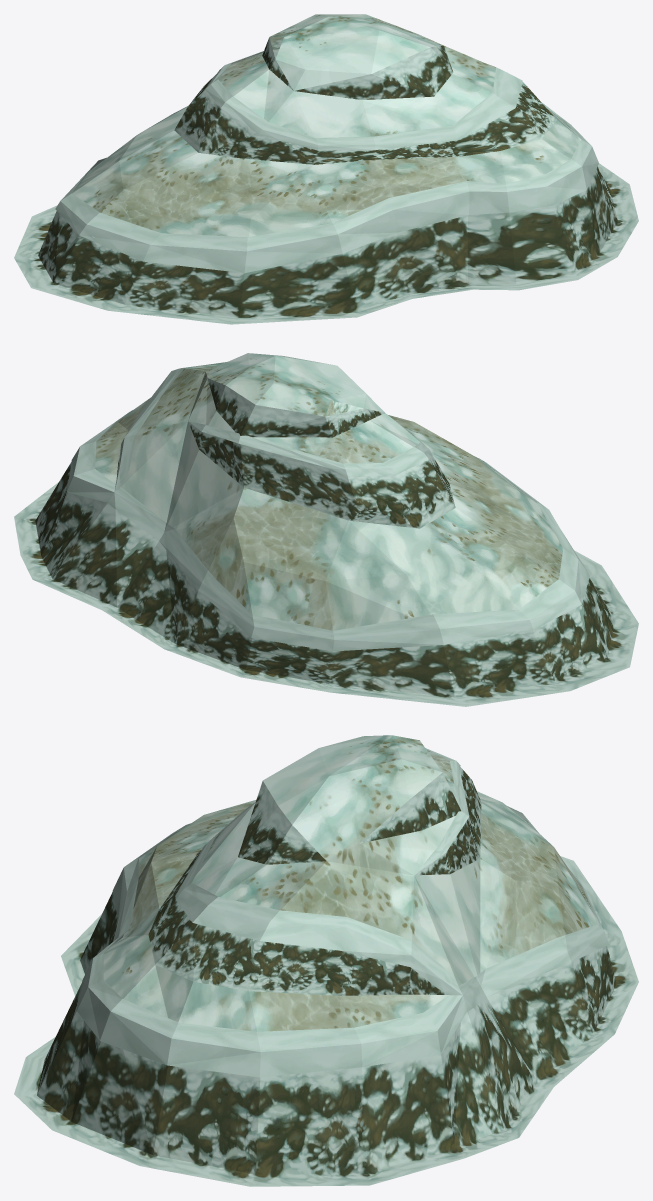
The model's file is hill_rocky.fbx.
3 renders of one model, top to bottom at view 1: azimuth 30°, elevation 25°; view 2: azimuth 150°, elevation 25°; view 3: azimuth 270°, elevation 25°, orthographic. The views are drawn at different scales.
Parts seen in each view (by area): view 1: obj2; view 2: obj2; view 3: obj2.
Part boxes in pixels (x1=…): obj2: x1=14, y1=14, x2=638, y2=324; obj2: x1=14, y1=353, x2=638, y2=706; obj2: x1=14, y1=735, x2=638, y2=1186.
Bounding box in the file's own units: 26.92 × 8.71 × 18.91.
